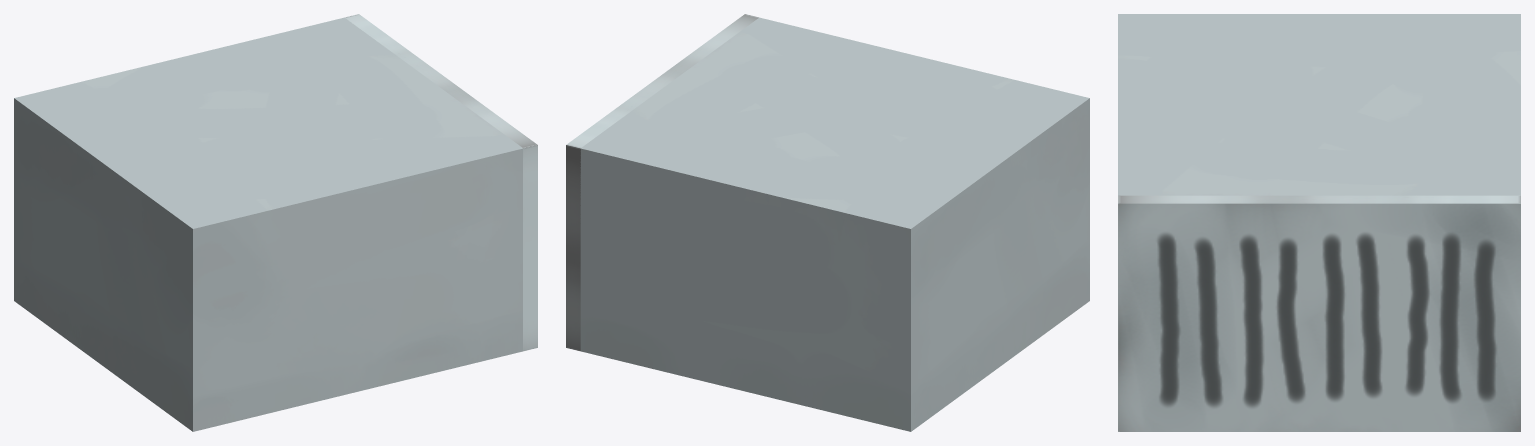
Rendered from Grate.fbx.
3 views of the same model, side by side, from view 1: azimuth 30°, elevation 25°; view 2: azimuth 150°, elevation 25°; view 3: azimuth 270°, elevation 25° (orthographic). The views are drawn at different scales.
Parts seen in each view (by area): view 1: vent, ventCover; view 2: vent, ventCover; view 3: ventCover, vent.
Part boxes in pixels (<box>): vent: <box>14,17,522,431</box>; ventCover: <box>345,14,537,351</box>; vent: <box>580,17,1089,431</box>; ventCover: <box>566,14,758,351</box>; ventCover: <box>1118,195,1520,431</box>; vent: <box>1118,14,1520,195</box>.
Bounding box in the file's own units: 0.0178 × 0.01 × 0.016.
Materials: 2 (2 with a texture image).
